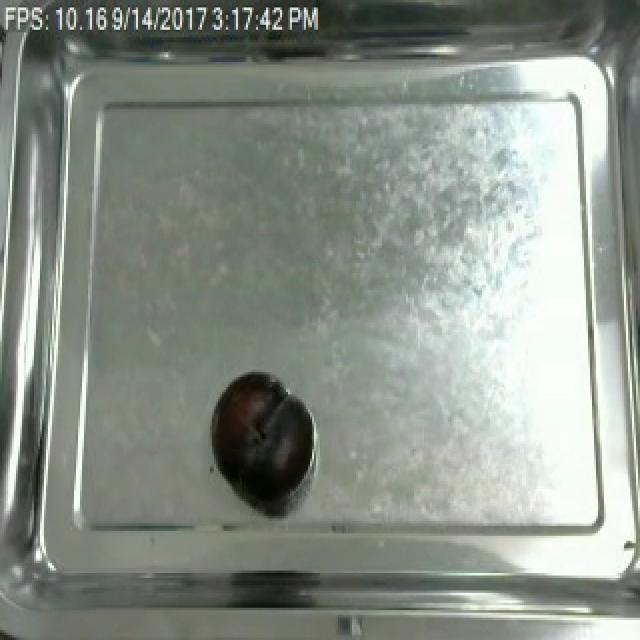Fruit: (206, 370, 296, 496)
